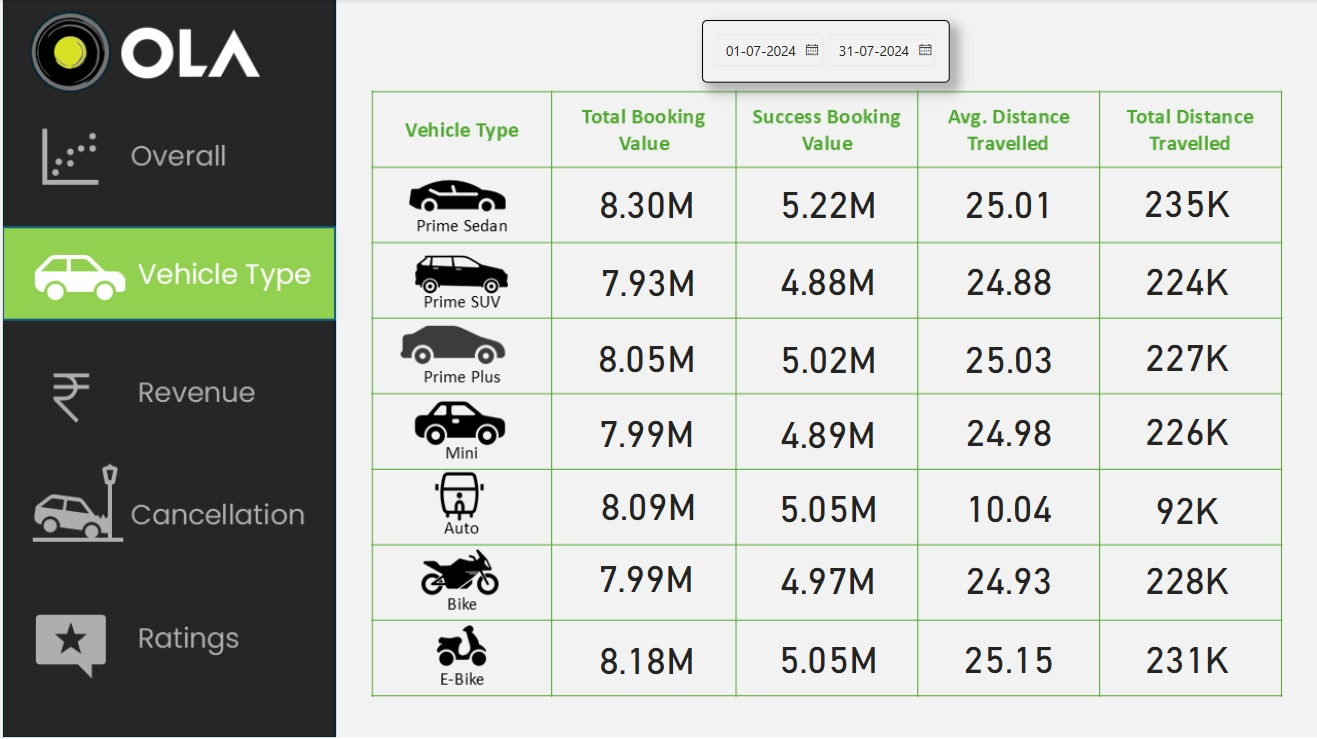

The dashboard page shown, as its layout file describes it:
{"tool":"powerbi","page":{"name":"Vehicle Type","canvas":[1280,720],"ordinal":1},"visuals":[{"type":"actionButton","box":[0,368,329.9,103.7],"z":0},{"type":"actionButton","box":[0,323.3,322.2,112.2],"z":1000},{"type":"actionButton","box":[0,450,322.2,111.1],"z":2000},{"type":"actionButton","box":[0,573.3,322.2,110],"z":3000},{"type":"actionButton","box":[0,97.8,322.2,111.1],"z":4000},{"type":"card","fields":{"Values":["Sum(July.Booking_Value)"]},"box":[545.6,163.3,161.1,66.7],"z":5000},{"type":"card","fields":{"Values":["Sum(July.Booking_Value)"]},"box":[546.7,238.9,161.1,66.7],"z":6000},{"type":"card","fields":{"Values":["Sum(July.Booking_Value)"]},"box":[545.5,312.7,160.9,66.4],"z":7000},{"type":"card","fields":{"Values":["Sum(July.Booking_Value)"]},"box":[545.7,385.7,160,67.1],"z":8000},{"type":"card","fields":{"Values":["Sum(July.Booking_Value)"]},"box":[547.3,458.2,160,65.5],"z":9000},{"type":"card","fields":{"Values":["Sum(July.Booking_Value)"]},"box":[545,527,161,67],"z":10000},{"type":"card","fields":{"Values":["Sum(July.Booking_Value)"]},"box":[545.6,606.7,161.1,66.7],"z":11000},{"type":"card","fields":{"Values":["Sum(July.Booking_Value)"]},"box":[721.2,163.8,161.2,66.2],"z":12000},{"type":"card","fields":{"Values":["Sum(July.Booking_Value)"]},"box":[721.2,238.8,161.2,66.2],"z":13000},{"type":"card","fields":{"Values":["Sum(July.Booking_Value)"]},"box":[721.2,313.8,161.2,66.2],"z":14000},{"type":"card","fields":{"Values":["Sum(July.Booking_Value)"]},"box":[721.2,387.5,161.2,66.2],"z":15000},{"type":"card","fields":{"Values":["Sum(July.Booking_Value)"]},"box":[721.2,458.8,161.2,66.2],"z":16000},{"type":"card","fields":{"Values":["Sum(July.Booking_Value)"]},"box":[721.2,528.8,161.2,66.2],"z":17000},{"type":"card","fields":{"Values":["Sum(July.Booking_Value)"]},"box":[721.2,606.2,161.2,66.2],"z":18000},{"type":"card","fields":{"Values":["Avg(July.Ride_Distance)"]},"box":[897.5,163.8,161.2,66.2],"z":19000},{"type":"card","fields":{"Values":["Avg(July.Ride_Distance)"]},"box":[897.5,238.8,161.2,66.2],"z":20000},{"type":"card","fields":{"Values":["Avg(July.Ride_Distance)"]},"box":[897.5,313.8,161.2,66.2],"z":21000},{"type":"card","fields":{"Values":["Avg(July.Ride_Distance)"]},"box":[897.5,385,161.2,66.2],"z":22000},{"type":"card","fields":{"Values":["Avg(July.Ride_Distance)"]},"box":[897.5,458.8,161.2,66.2],"z":23000},{"type":"card","fields":{"Values":["Avg(July.Ride_Distance)"]},"box":[897.5,528.8,161.2,66.2],"z":24000},{"type":"card","fields":{"Values":["Avg(July.Ride_Distance)"]},"box":[897.5,606.2,161.2,66.2],"z":25000},{"type":"card","fields":{"Values":["Sum(July.Ride_Distance)"]},"box":[1071.2,162.5,161.2,66.2],"z":26000},{"type":"card","fields":{"Values":["Sum(July.Ride_Distance)"]},"box":[1071.2,238.8,161.2,66.2],"z":27000},{"type":"card","fields":{"Values":["Sum(July.Ride_Distance)"]},"box":[1071.2,312.5,161.2,66.2],"z":28000},{"type":"card","fields":{"Values":["Sum(July.Ride_Distance)"]},"box":[1071.2,383.8,161.2,66.2],"z":29000},{"type":"card","fields":{"Values":["Sum(July.Ride_Distance)"]},"box":[1071.2,461.2,161.2,66.2],"z":30000},{"type":"card","fields":{"Values":["Sum(July.Ride_Distance)"]},"box":[1071.2,528.8,161.2,66.2],"z":31000},{"type":"card","fields":{"Values":["Sum(July.Ride_Distance)"]},"box":[1071.2,606.2,161.2,66.2],"z":32000},{"type":"slicer","title":"Date","fields":{"Values":["July.Date"]},"box":[680,20,241.4,61.4],"z":33000}]}

Visuals, with their boxes on the page's 1280x720 design canvas (x1, y1, x2, y2). These are canvas units, not pixel positions in the 1317x739 screenshot, which may show the page scaled, cropped or inside an application window:
actionButton: rect(0, 368, 330, 472)
actionButton: rect(0, 323, 322, 436)
actionButton: rect(0, 450, 322, 561)
actionButton: rect(0, 573, 322, 683)
actionButton: rect(0, 98, 322, 209)
card - Sum(July.Booking_Value): rect(546, 163, 707, 230)
card - Sum(July.Booking_Value): rect(547, 239, 708, 306)
card - Sum(July.Booking_Value): rect(546, 313, 706, 379)
card - Sum(July.Booking_Value): rect(546, 386, 706, 453)
card - Sum(July.Booking_Value): rect(547, 458, 707, 524)
card - Sum(July.Booking_Value): rect(545, 527, 706, 594)
card - Sum(July.Booking_Value): rect(546, 607, 707, 673)
card - Sum(July.Booking_Value): rect(721, 164, 882, 230)
card - Sum(July.Booking_Value): rect(721, 239, 882, 305)
card - Sum(July.Booking_Value): rect(721, 314, 882, 380)
card - Sum(July.Booking_Value): rect(721, 388, 882, 454)
card - Sum(July.Booking_Value): rect(721, 459, 882, 525)
card - Sum(July.Booking_Value): rect(721, 529, 882, 595)
card - Sum(July.Booking_Value): rect(721, 606, 882, 672)
card - Avg(July.Ride_Distance): rect(898, 164, 1059, 230)
card - Avg(July.Ride_Distance): rect(898, 239, 1059, 305)
card - Avg(July.Ride_Distance): rect(898, 314, 1059, 380)
card - Avg(July.Ride_Distance): rect(898, 385, 1059, 451)
card - Avg(July.Ride_Distance): rect(898, 459, 1059, 525)
card - Avg(July.Ride_Distance): rect(898, 529, 1059, 595)
card - Avg(July.Ride_Distance): rect(898, 606, 1059, 672)
card - Sum(July.Ride_Distance): rect(1071, 162, 1232, 229)
card - Sum(July.Ride_Distance): rect(1071, 239, 1232, 305)
card - Sum(July.Ride_Distance): rect(1071, 312, 1232, 379)
card - Sum(July.Ride_Distance): rect(1071, 384, 1232, 450)
card - Sum(July.Ride_Distance): rect(1071, 461, 1232, 527)
card - Sum(July.Ride_Distance): rect(1071, 529, 1232, 595)
card - Sum(July.Ride_Distance): rect(1071, 606, 1232, 672)
"Date" slicer: rect(680, 20, 921, 81)
